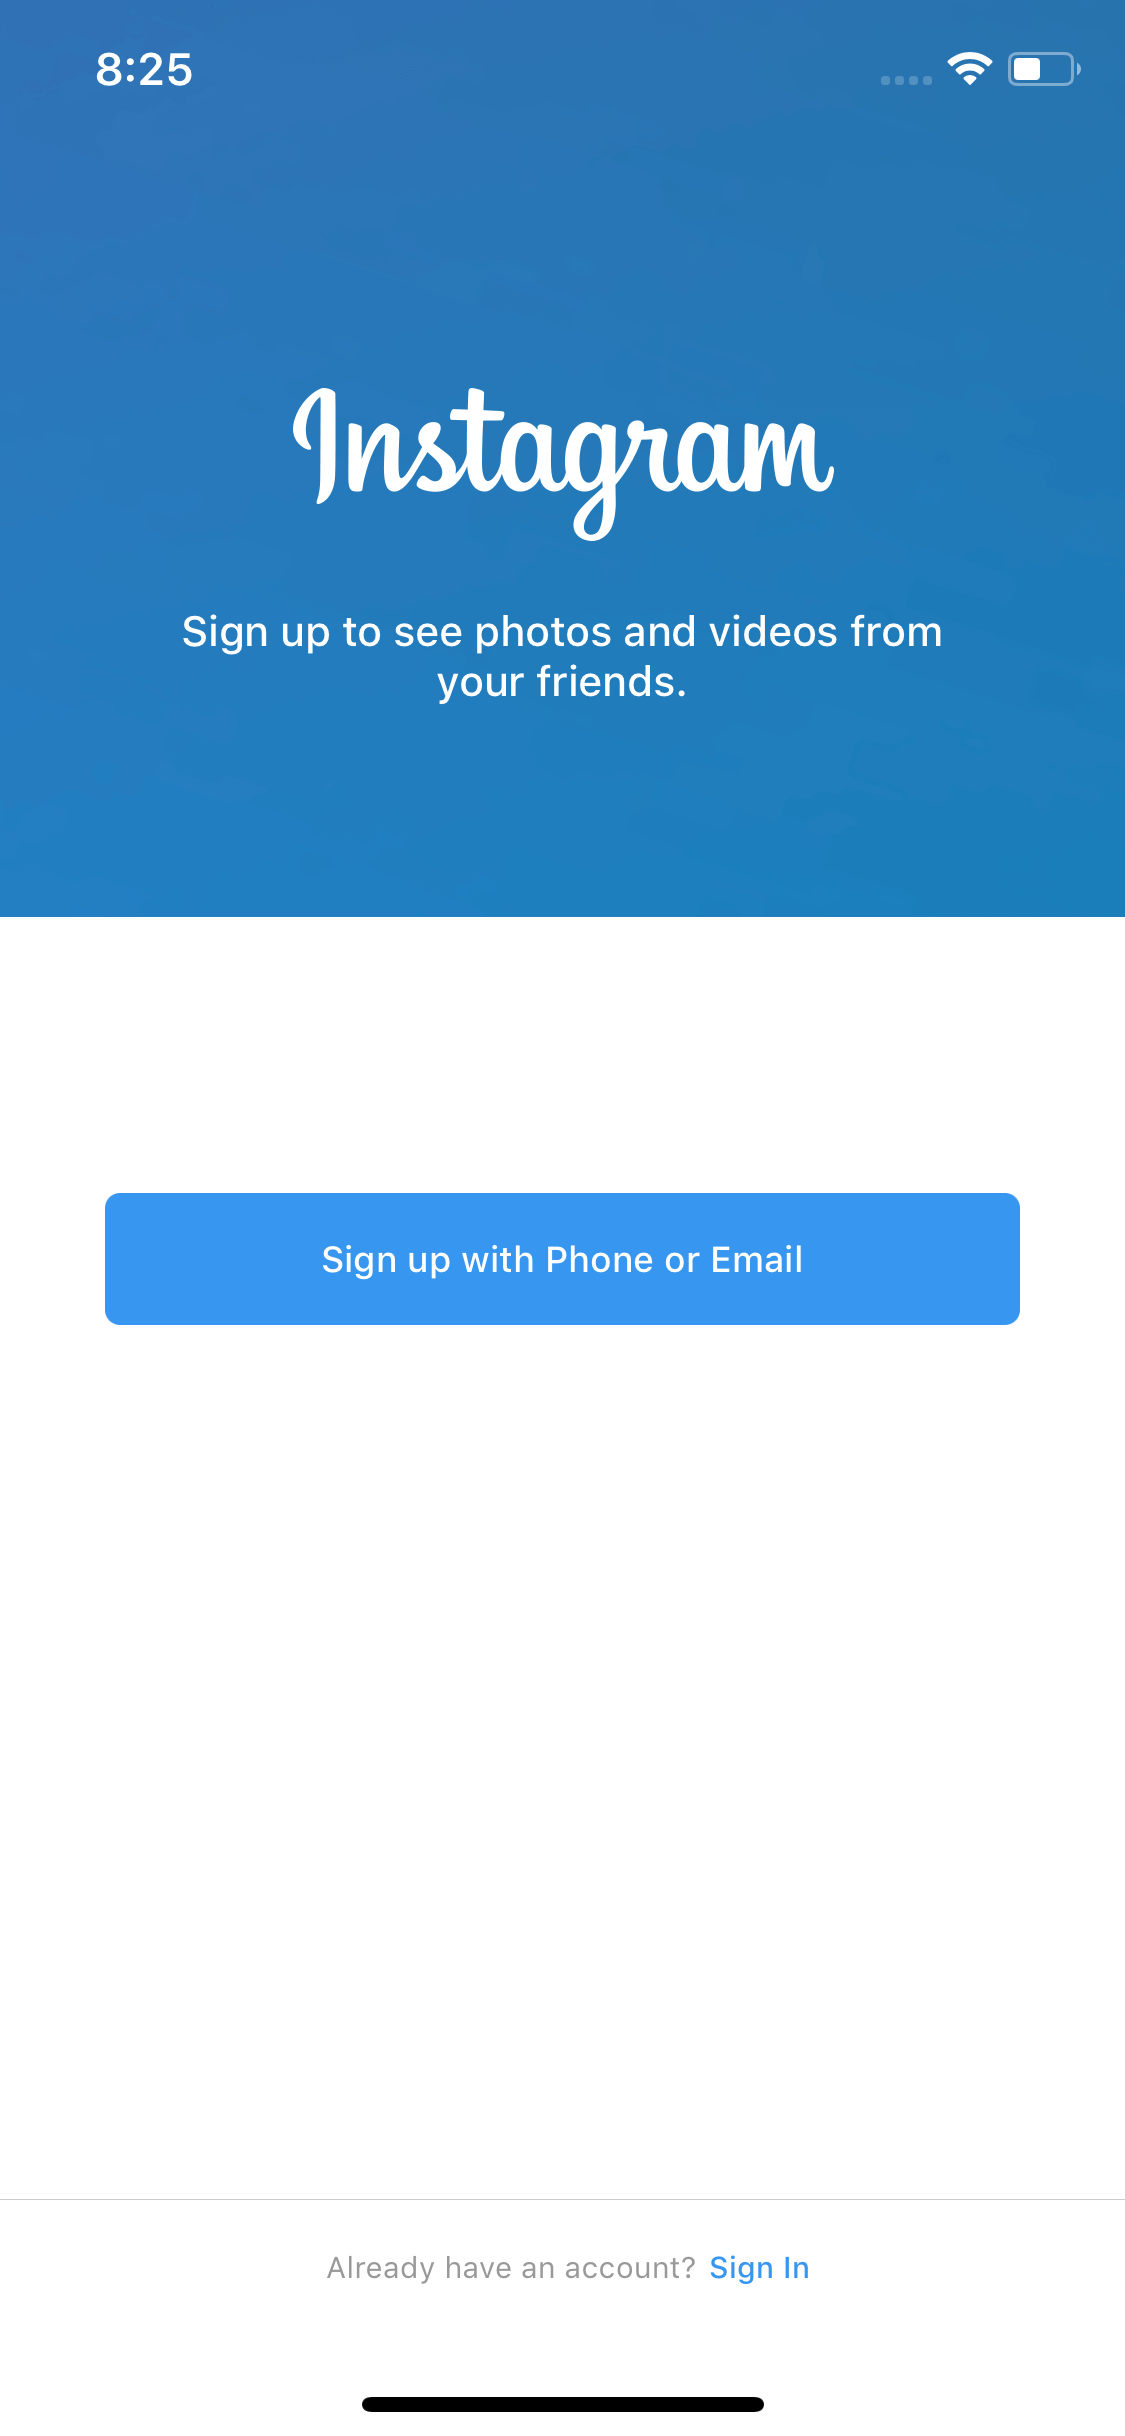Buttons: (79, 1162, 1036, 1352)
